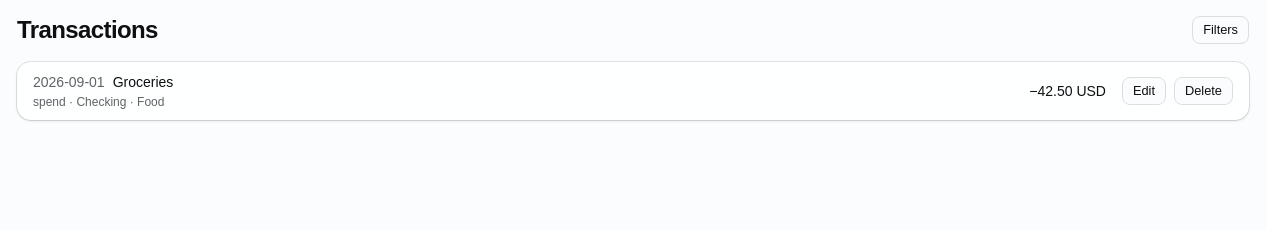
Test case: TransactionsList › filters by category when a transaction row’s category is clicked
expect the text "Groceries" is shown: met, box [113, 72, 173, 92]
Click the button "Food" at (151, 102), box [137, 94, 164, 110]
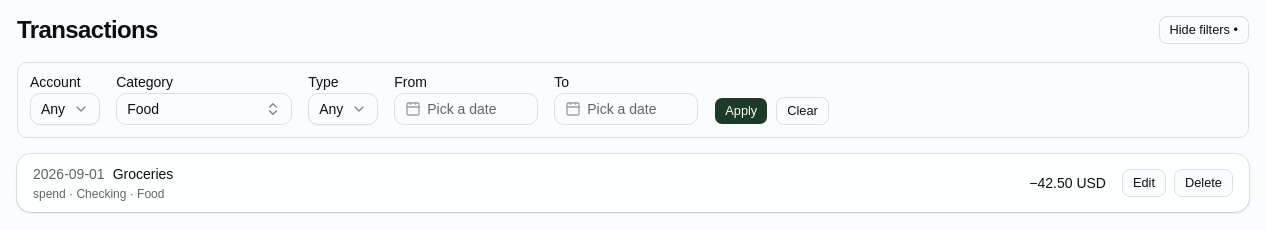
expect the dropdown named "Category" reads "Food": met, box [116, 93, 292, 125]
